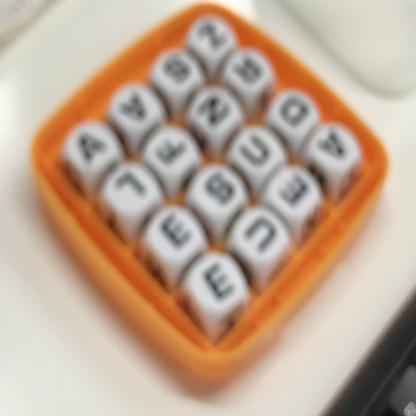a: (63, 118, 109, 169), (111, 85, 152, 133), (313, 124, 353, 171)
d: (274, 89, 313, 142)
e: (196, 254, 244, 310), (153, 205, 194, 260), (273, 168, 319, 214)
f: (148, 129, 193, 175)
l: (109, 164, 150, 215)
n: (196, 91, 235, 131)
r: (228, 51, 267, 92)
s: (158, 48, 198, 95), (199, 166, 239, 210)
u: (240, 207, 285, 262), (233, 125, 279, 175)
z: (192, 20, 231, 55)
